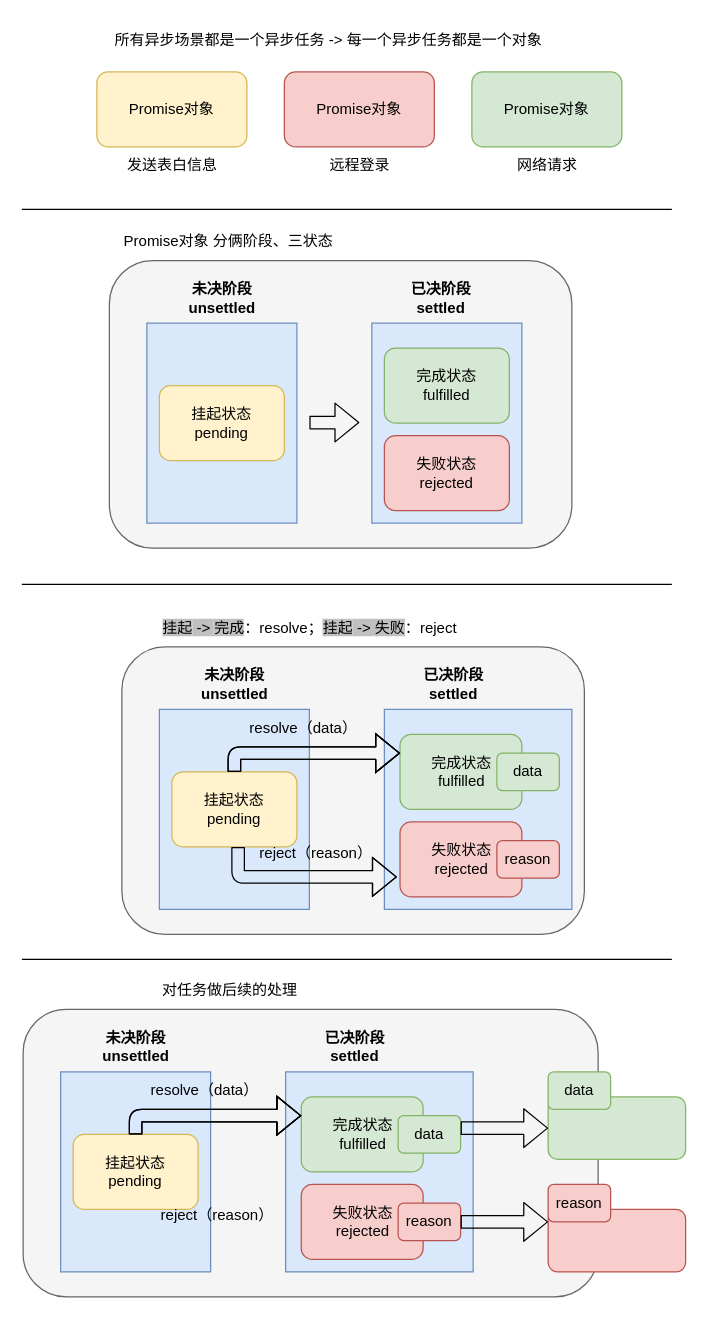
The diagram is 708 pixels wide and 1319 high, and some of its shapes have lost their labels. The centre of each missing label's shape, as x and y in pixels:
"onFulfilled" belongs at (616,1127).
"onRejected" belongs at (616,1240).
